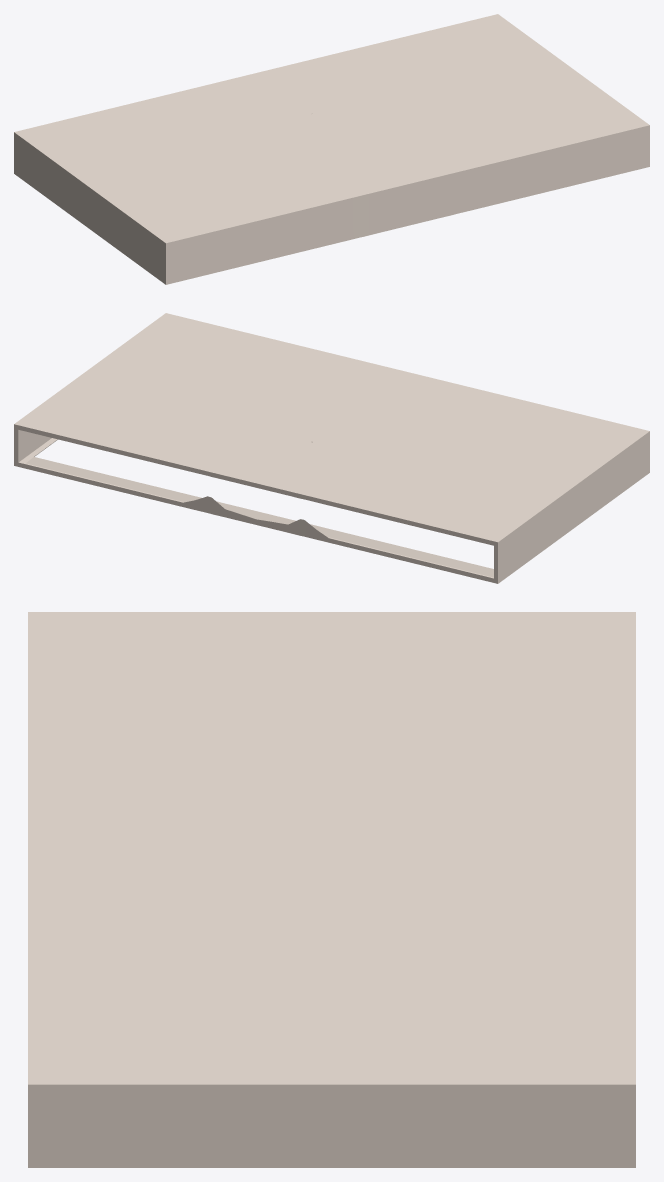
The model's file is MeshTelevision_23_0_GeomSubset_1.obj.
3 views of the same model, one above another, from view 1: azimuth 30°, elevation 25°; view 2: azimuth 150°, elevation 25°; view 3: azimuth 270°, elevation 25° (orthographic). The views are drawn at different scales.
Parts seen in each view (by area): view 1: MeshTelevision_23_0_GeomSubset_1; view 2: MeshTelevision_23_0_GeomSubset_1; view 3: MeshTelevision_23_0_GeomSubset_1.
Boxes of the visible parts, <box> form: MeshTelevision_23_0_GeomSubset_1: <box>14,14,649,284</box>; MeshTelevision_23_0_GeomSubset_1: <box>14,313,649,583</box>; MeshTelevision_23_0_GeomSubset_1: <box>28,612,635,1167</box>.
Bounding box in the file's own units: 0.9836 × 0.0819 × 0.5348.
